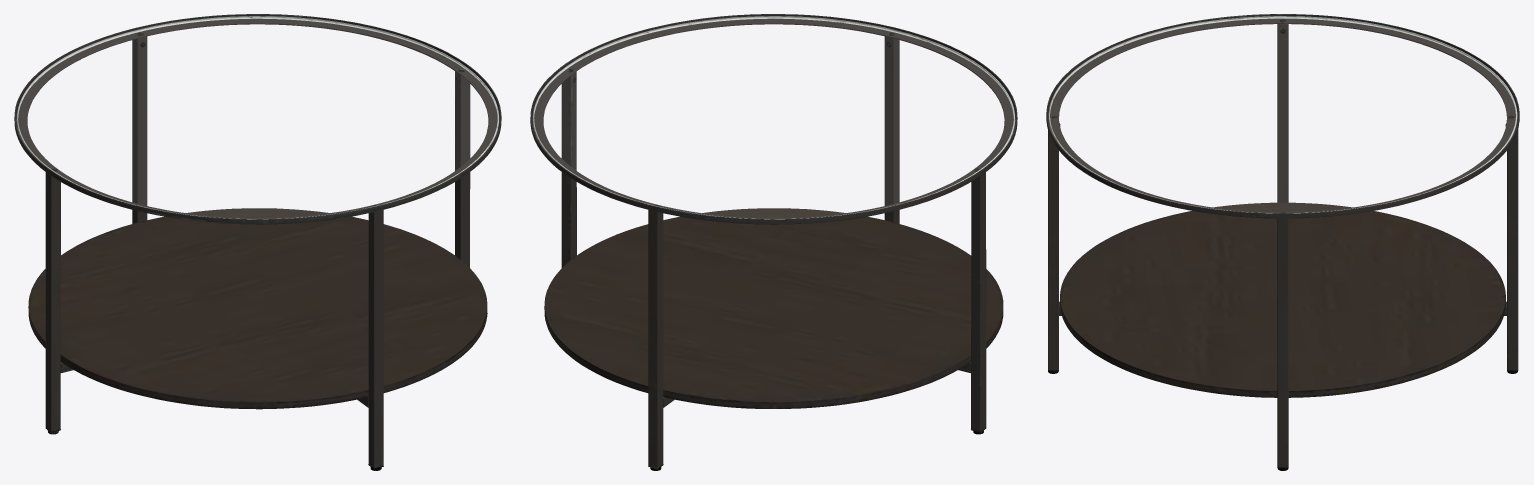
The model's file is LB-LR-COFFEE-01.glb.
3 renders of one model, left to right at view 1: azimuth 30°, elevation 25°; view 2: azimuth 150°, elevation 25°; view 3: azimuth 270°, elevation 25°, orthographic. The views are drawn at different scales.
Parts seen in each view (by area): view 1: Mesh_0; view 2: Mesh_0; view 3: Mesh_0.
Part boxes in pixels (<box>): Mesh_0: <box>14,14,501,470</box>; Mesh_0: <box>530,14,1017,470</box>; Mesh_0: <box>1046,14,1519,470</box>.
Bounding box in the file's own units: 0.75 × 0.451 × 0.75.
Materials: 2 (1 with a texture image).
